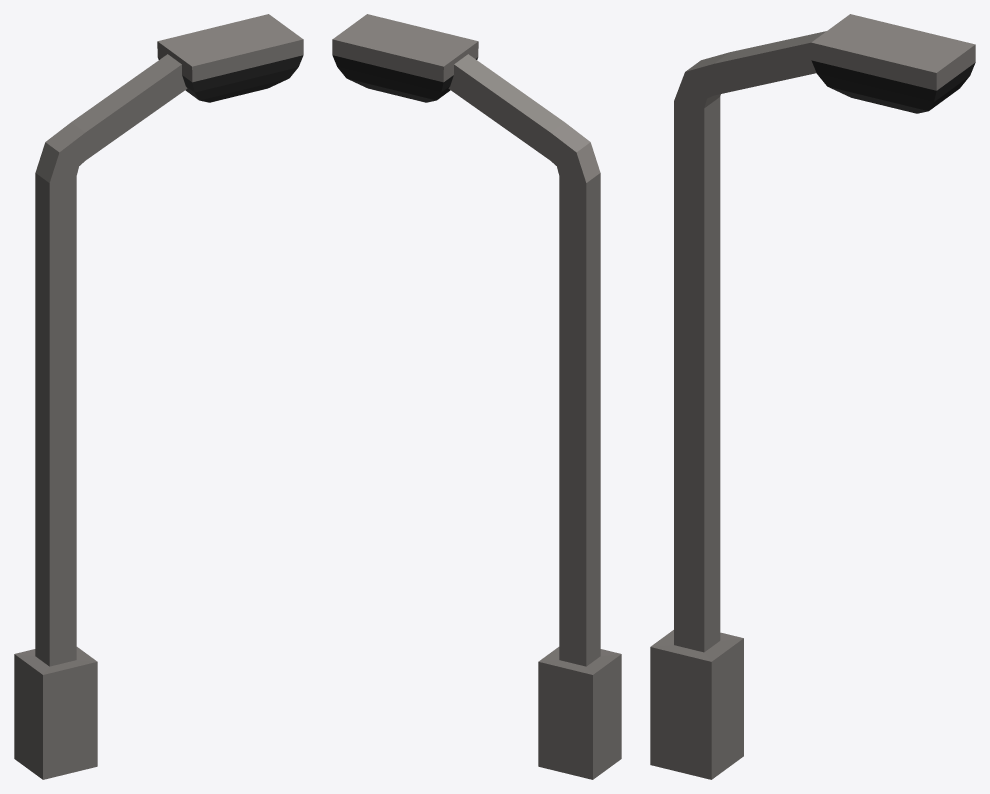
The model's file is ludeng_01.FBX.
3 renders of one model, left to right at view 1: azimuth 30°, elevation 25°; view 2: azimuth 150°, elevation 25°; view 3: azimuth 330°, elevation 25°, orthographic. The views are drawn at different scales.
Parts seen in each view (by area): view 1: ludeng_01; view 2: ludeng_01; view 3: ludeng_01.
Part boxes in pixels (x1,y1,x2,y2): ludeng_01: (14,14,303,779); ludeng_01: (332,14,621,779); ludeng_01: (650,14,975,779).
Bounding box in the file's own units: 522 × 1316 × 122.
